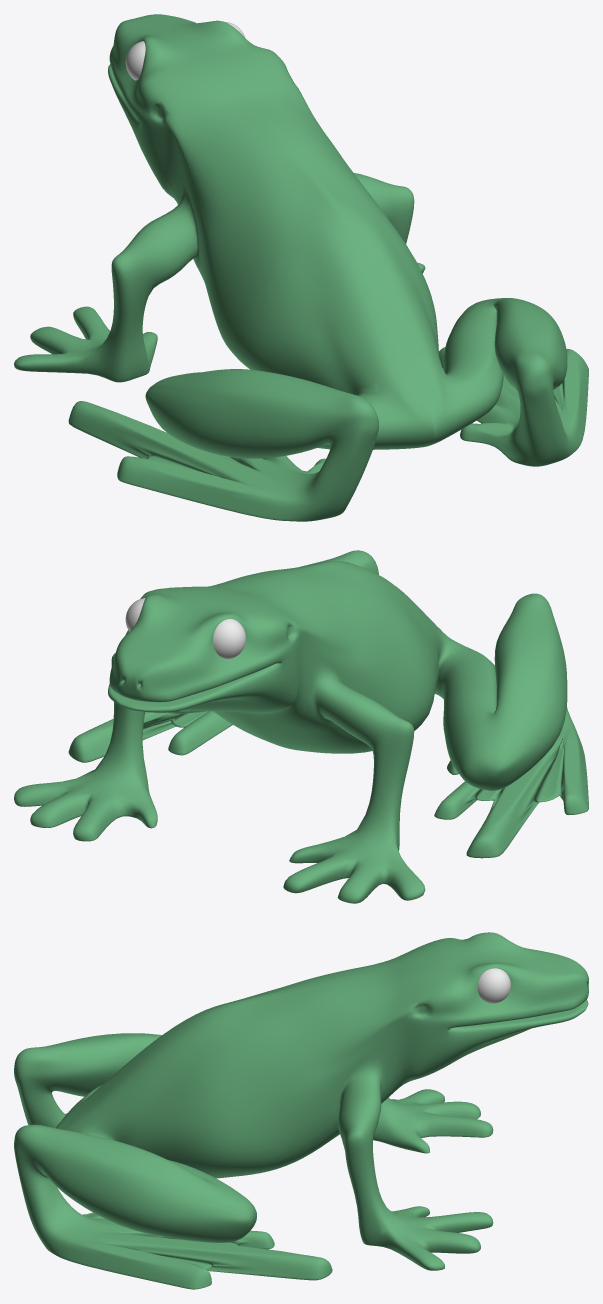
The model's file is FrogTryning.fbx.
The picture shows the model from 3 angles, top to bottom: view 1: azimuth 30°, elevation 25°; view 2: azimuth 150°, elevation 25°; view 3: azimuth 270°, elevation 25°; orthographic projection. The views are drawn at different scales.
Visible parts, largest first — view 1: Cube; view 2: Cube, Sphere; view 3: Cube, Sphere.
Part boxes in pixels (x1,y1,x2,y2): Cube: [14, 14, 588, 521]; Cube: [14, 550, 588, 903]; Sphere: [125, 598, 245, 658]; Cube: [14, 932, 588, 1289]; Sphere: [477, 932, 510, 1003].
Size of the model in its own units: 1034 by 582 by 1241.
